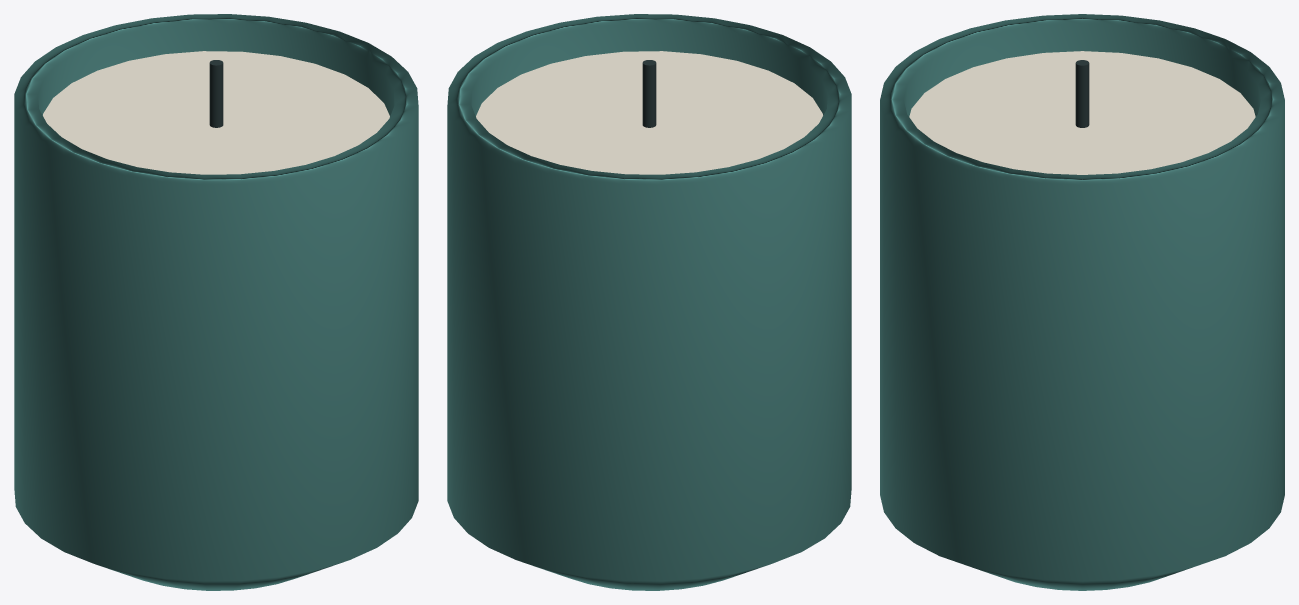
File: wp-bougie-en-pot.glb
The picture shows the model from 3 angles, left to right: view 1: azimuth 30°, elevation 25°; view 2: azimuth 150°, elevation 25°; view 3: azimuth 270°, elevation 25°; orthographic projection.
Visible parts, largest first — view 1: wp-bougie-en-pot; view 2: wp-bougie-en-pot; view 3: wp-bougie-en-pot.
Boxes of the visible parts, x1=… form: wp-bougie-en-pot: x1=14, y1=14, x2=418, y2=590; wp-bougie-en-pot: x1=447, y1=14, x2=851, y2=590; wp-bougie-en-pot: x1=880, y1=14, x2=1284, y2=590.
Size of the model in its own units: 0.1 by 0.13 by 0.1.
